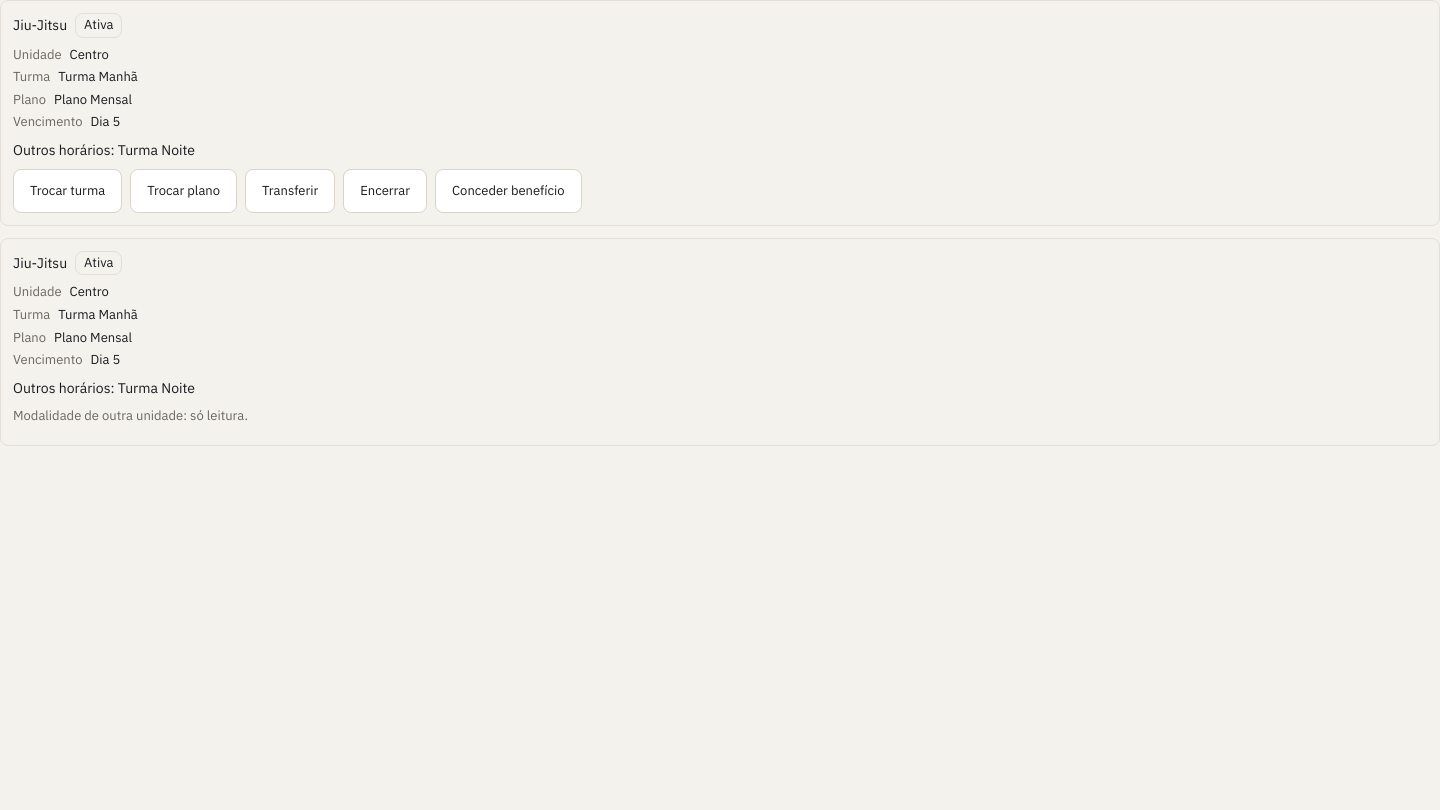
Test: aba Matrícula e modalidades (R23, R27, CA33) › RF-BEN-02: Conceder benefício só aparece com permissão de benefícios e abre a janela da modalidade
The image size is (1440, 810).
Click the button "Conceder benefício" at (508, 191), box [435,169,582,213]
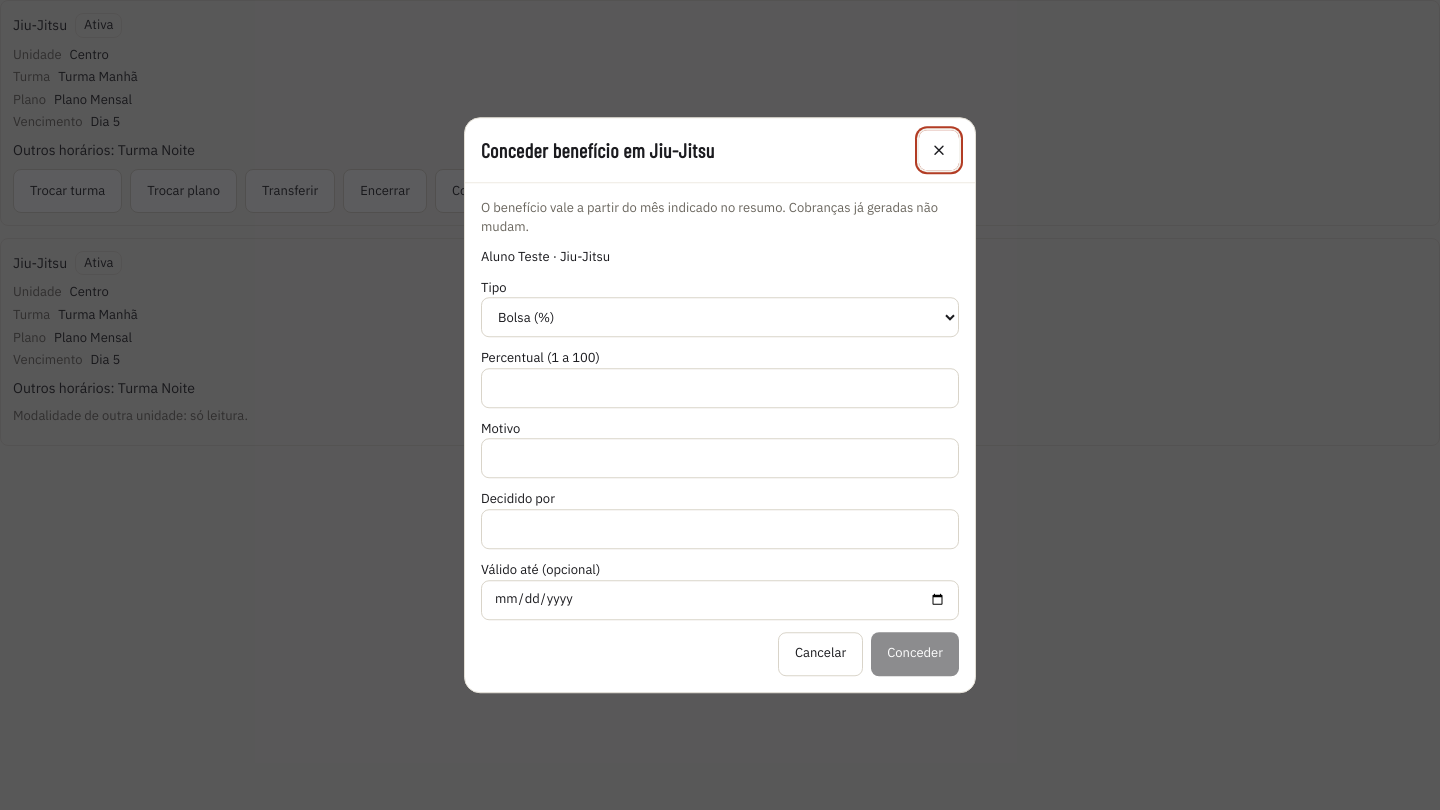
Result: the dialog "Conceder benefício em Jiu-Jitsu" is shown at [464,117,976,693]
